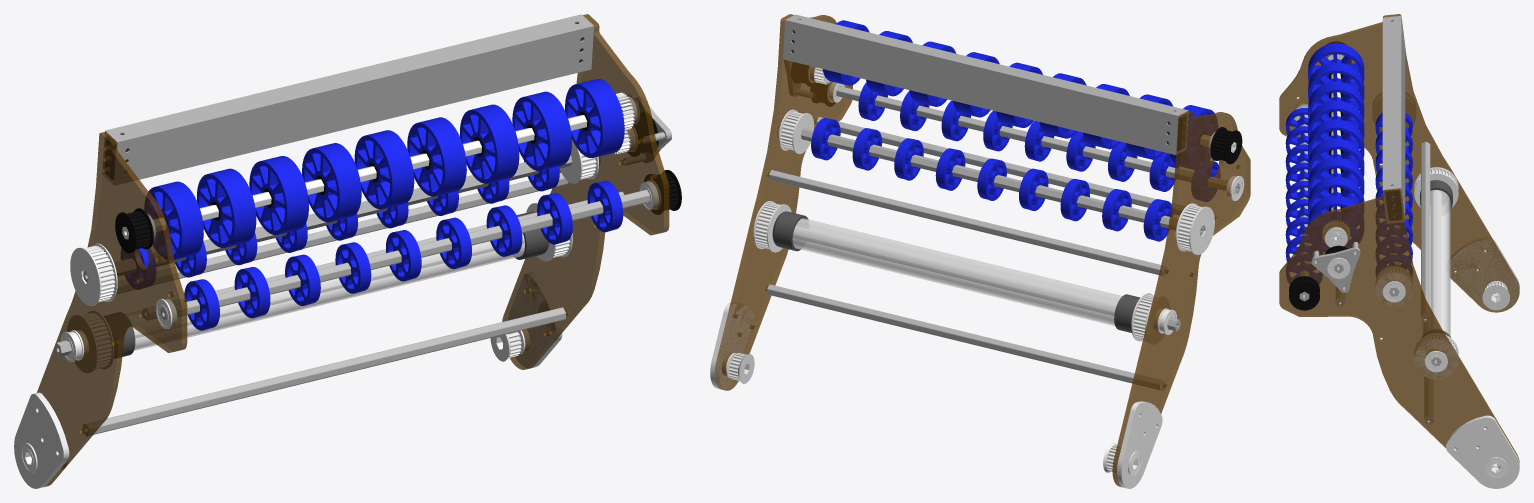
The picture shows the model from 3 angles, left to right: view 1: azimuth 30°, elevation 25°; view 2: azimuth 150°, elevation 25°; view 3: azimuth 270°, elevation 25°; orthographic projection. The views are drawn at different scales.
Visible parts, largest first — view 1: Beater Bar:1, Intake Plate:2, Intake Plate:1, Intake Hex Shaft 21.75:1, Polycarb roller:1, Intake Hex Shaft 23.06:2, wheel_compliant_3in_.5hex:5, wheel_compliant_3in_.5hex:2, wheel_compliant_3in_.5hex:6, wheel_compliant_3in_.5hex:4, wheel_compliant_3in_.5hex:1, wheel_compliant_3in_.5hex:8 (+26 smaller); view 2: Beater Bar:1, Intake Plate:2, Intake Plate:1, Polycarb roller:1, Intake Hex Shaft 21.75:2, Intake Hex Shaft 21.75:1, Hex Shaft 23.12:1, Hex Shaft 23.12:2, Intake Hex Shaft 23.06:2, Intake Plate:4, Intake Hex Shaft 21.75:3, Intake Plate:3 (+27 smaller); view 3: Intake Plate:1, Intake Plate:2, Beater Bar:1, Intake Plate:3, Intake Plate:4, Polycarb roller:1, Intake Hex Shaft 21.75:2, wheel_compliant_3in_.5hex:1, Hex Shaft 23.12:1, pulley_36t_15mm Printable:1, wheel_compliant_3in_.5hex:3, wheel_compliant_3in_.5hex:9 (+34 smaller).
Boxes of the visible parts, x1,y1,x2,y2 form: Beater Bar:1: (102, 14, 594, 184); Intake Plate:2: (37, 131, 187, 486); Intake Plate:1: (502, 14, 669, 369); Intake Hex Shaft 21.75:1: (83, 307, 565, 436); Polycarb roller:1: (133, 233, 524, 350); Intake Hex Shaft 23.06:2: (160, 189, 650, 320); wheel_compliant_3in_.5hex:5: (354, 130, 414, 209); wheel_compliant_3in_.5hex:2: (512, 91, 571, 170); wheel_compliant_3in_.5hex:6: (302, 143, 361, 222); wheel_compliant_3in_.5hex:4: (407, 117, 466, 196); wheel_compliant_3in_.5hex:1: (565, 79, 624, 157); wheel_compliant_3in_.5hex:8: (196, 168, 256, 247); Beater Bar:1: (783, 14, 1188, 154); Intake Plate:2: (1112, 111, 1250, 487); Intake Plate:1: (714, 14, 852, 390); Polycarb roller:1: (792, 218, 1122, 325); Intake Hex Shaft 21.75:2: (769, 170, 1167, 275); Intake Hex Shaft 21.75:1: (767, 284, 1165, 390); Hex Shaft 23.12:1: (793, 226, 1180, 330); Hex Shaft 23.12:2: (800, 128, 1203, 235); Intake Hex Shaft 23.06:2: (836, 86, 1240, 193); Intake Plate:4: (1117, 401, 1162, 488); Intake Hex Shaft 21.75:3: (816, 117, 1214, 214); Intake Plate:3: (710, 302, 755, 389); Intake Plate:1: (1279, 188, 1519, 462); Intake Plate:2: (1279, 14, 1519, 312); Beater Bar:1: (1382, 16, 1405, 223); Intake Plate:3: (1446, 415, 1519, 488); Intake Plate:4: (1450, 237, 1519, 310); Polycarb roller:1: (1430, 190, 1450, 336); Intake Hex Shaft 21.75:2: (1421, 141, 1430, 323); wheel_compliant_3in_.5hex:1: (1308, 195, 1363, 251); Hex Shaft 23.12:1: (1431, 190, 1441, 366); pulley_36t_15mm Printable:1: (1414, 333, 1458, 379); wheel_compliant_3in_.5hex:3: (1308, 157, 1364, 198); wheel_compliant_3in_.5hex:9: (1308, 43, 1364, 84).
Size of the model in its own units: 0.6173 by 0.4435 by 0.3257.
